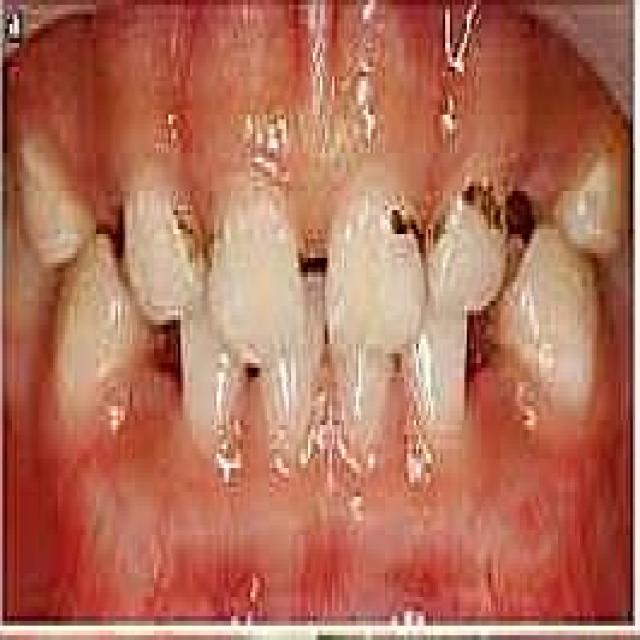caries: (380, 176, 440, 280), (453, 156, 508, 248), (503, 176, 546, 272), (170, 187, 216, 273)
